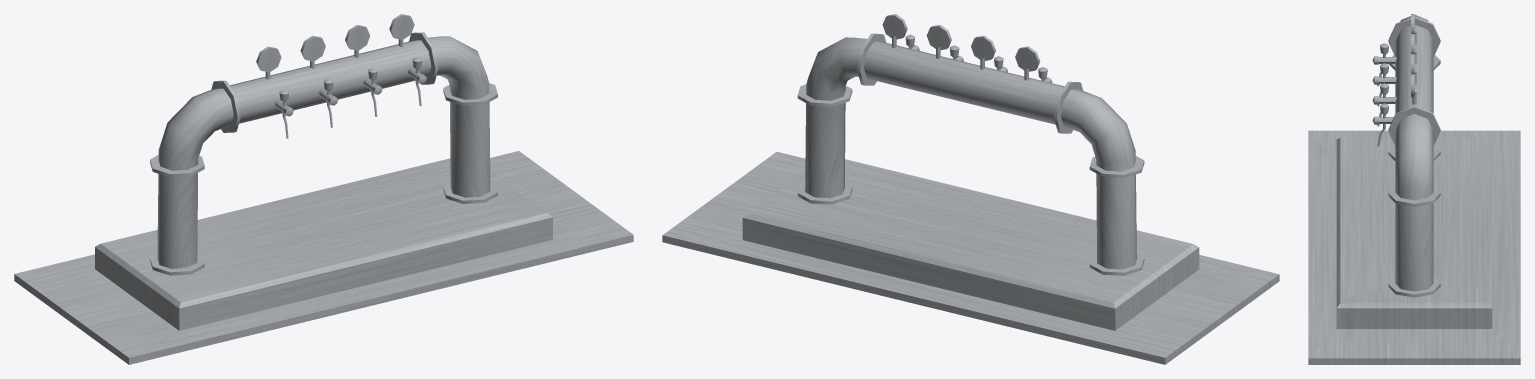
Rendered from Chopeira.FBX.
The picture shows the model from 3 angles, left to right: view 1: azimuth 30°, elevation 25°; view 2: azimuth 150°, elevation 25°; view 3: azimuth 270°, elevation 25°; orthographic projection. The views are drawn at different scales.
Parts seen in each view (by area): view 1: Chopeira; view 2: Chopeira; view 3: Chopeira.
Boxes of the visible parts, x1,y1,x2,y2 form: Chopeira: (14, 14, 633, 364); Chopeira: (662, 14, 1279, 364); Chopeira: (1308, 14, 1520, 364).
Size of the model in its own units: 80.09 by 34.67 by 31.53.
